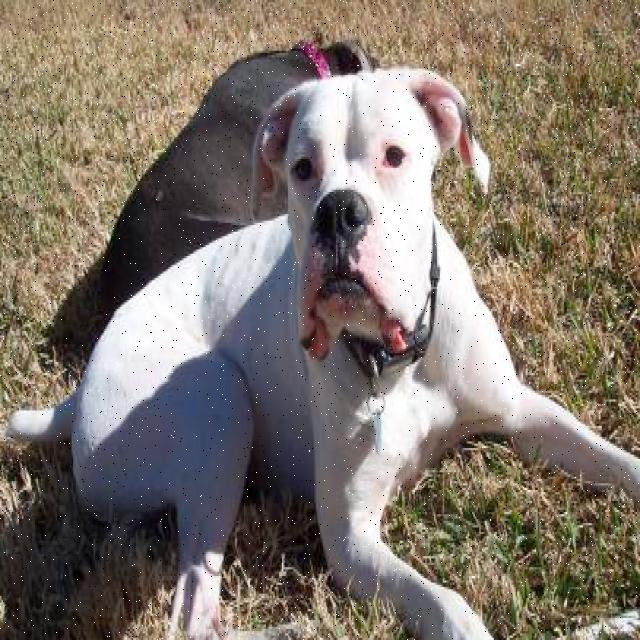Dog: (252, 52, 497, 373)
